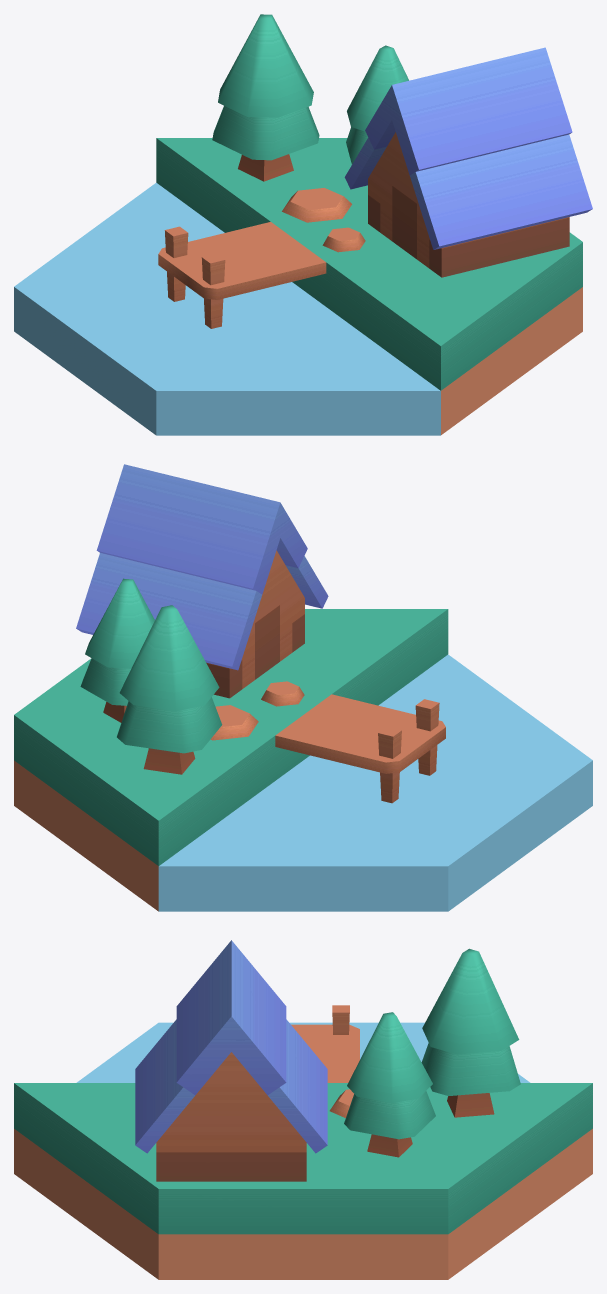
Rendered from building-dock.glb.
3 renders of one model, top to bottom at view 1: azimuth 30°, elevation 25°; view 2: azimuth 150°, elevation 25°; view 3: azimuth 270°, elevation 25°, orthographic.
Visible parts, largest first — view 1: building-dock; view 2: building-dock; view 3: building-dock.
Part boxes in pixels (x1=…): building-dock: x1=14, y1=14, x2=592, y2=435; building-dock: x1=14, y1=464, x2=592, y2=911; building-dock: x1=14, y1=940, x2=592, y2=1279.
Bounding box in the file's own units: 1 × 0.5781 × 1.15.
Materials: 1 (1 with a texture image).
